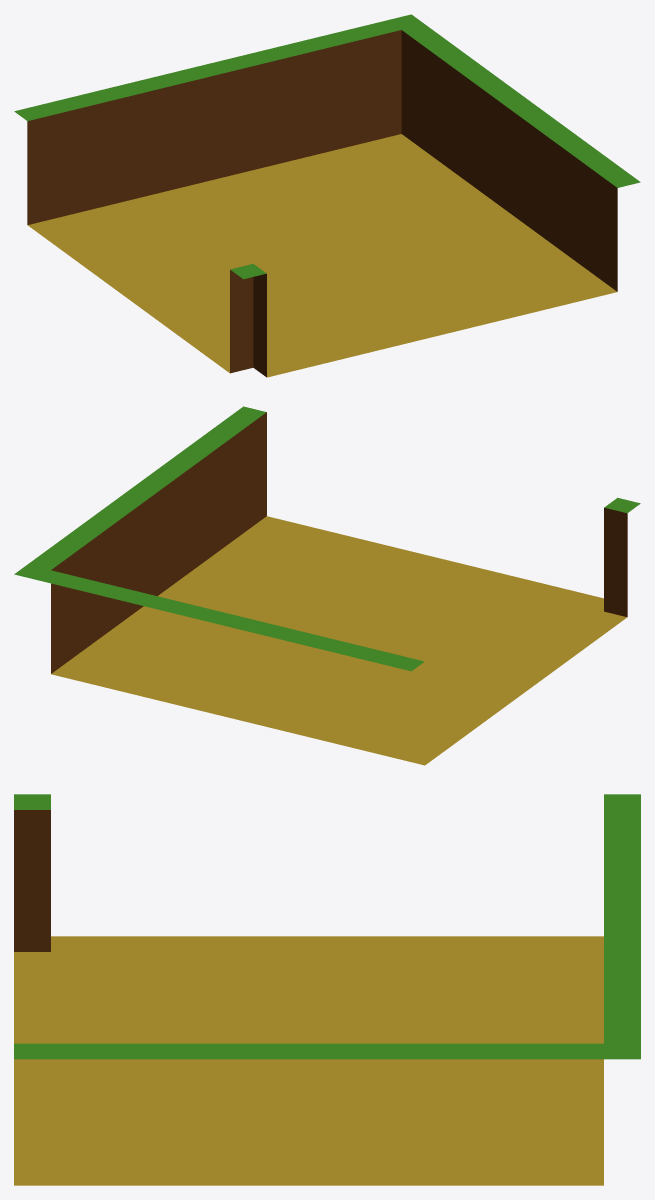
The model's file is Path_Corner.fbx.
3 renders of one model, top to bottom at view 1: azimuth 30°, elevation 25°; view 2: azimuth 150°, elevation 25°; view 3: azimuth 270°, elevation 25°, orthographic. The views are drawn at different scales.
Parts seen in each view (by area): view 1: Path_Corner; view 2: Path_Corner; view 3: Path_Corner.
Part boxes in pixels (left/top/right/bottom): Path_Corner: left=14, top=14, right=640, bottom=377; Path_Corner: left=14, top=406, right=640, bottom=765; Path_Corner: left=14, top=794, right=640, bottom=1185.
Bounding box in the file's own units: 200 × 50 × 200.
